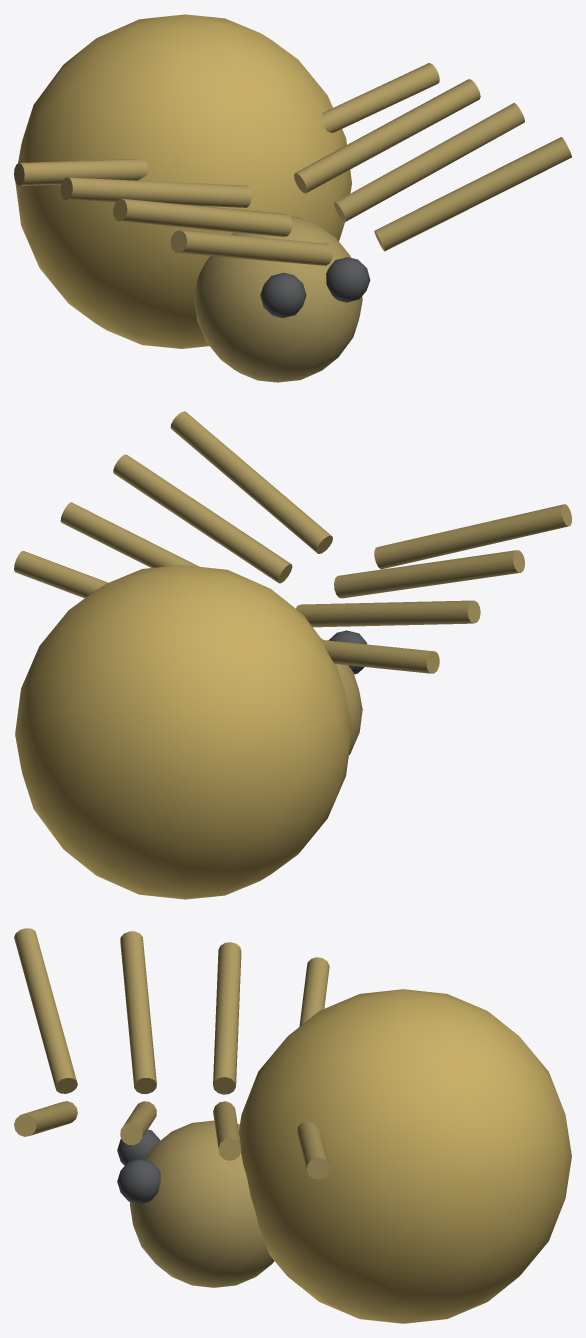
The model's file is eriovixia-excelsa.glb.
The picture shows the model from 3 angles, top to bottom: view 1: azimuth 30°, elevation 25°; view 2: azimuth 150°, elevation 25°; view 3: azimuth 270°, elevation 25°; orthographic projection.
Visible parts, largest first — view 1: abdomen, cephalothorax, leg01, leg21, leg11, leg1-1, leg2-1, leg0-1, leg31, leg3-1, eye-1, eye1; view 2: abdomen, leg11, leg0-1, leg01, leg1-1, leg2-1, leg21, leg3-1, leg31, cephalothorax; view 3: abdomen, cephalothorax, leg0-1, leg1-1, leg2-1, eye1, leg01, leg3-1, leg31, leg21, leg11, eye-1.
Part boxes in pixels (<box>): abdomen: <box>15,14,351,348</box>; cephalothorax: <box>194,216,362,382</box>; leg01: <box>374,137,571,251</box>; leg21: <box>294,79,480,193</box>; leg11: <box>334,103,524,221</box>; leg1-1: <box>113,198,292,236</box>; leg2-1: <box>60,177,251,207</box>; leg0-1: <box>170,230,332,265</box>; leg31: <box>321,63,439,132</box>; leg3-1: <box>14,158,148,185</box>; eye-1: <box>260,272,306,317</box>; eye1: <box>326,257,370,302</box>; abdomen: <box>15,565,351,899</box>; leg11: <box>113,454,292,583</box>; leg0-1: <box>374,504,571,569</box>; leg01: <box>170,411,332,553</box>; leg1-1: <box>334,550,524,598</box>; leg2-1: <box>296,600,480,627</box>; leg21: <box>60,502,199,567</box>; leg3-1: <box>321,640,439,673</box>; leg31: <box>14,551,108,598</box>; cephalothorax: <box>321,638,362,754</box>; abdomen: <box>238,989,571,1323</box>; cephalothorax: <box>129,1120,274,1287</box>; leg0-1: <box>14,928,77,1093</box>; leg1-1: <box>120,931,156,1093</box>; leg2-1: <box>213,942,241,1094</box>; eye1: <box>117,1158,160,1204</box>; leg01: <box>14,1101,77,1136</box>; leg3-1: <box>299,957,329,1026</box>; leg31: <box>297,1121,329,1179</box>; leg21: <box>213,1101,241,1160</box>; leg11: <box>120,1101,156,1145</box>; eye-1: <box>117,1129,160,1165</box>.
Size of the model in its own units: 0.4574 by 0.32 by 0.5299.
